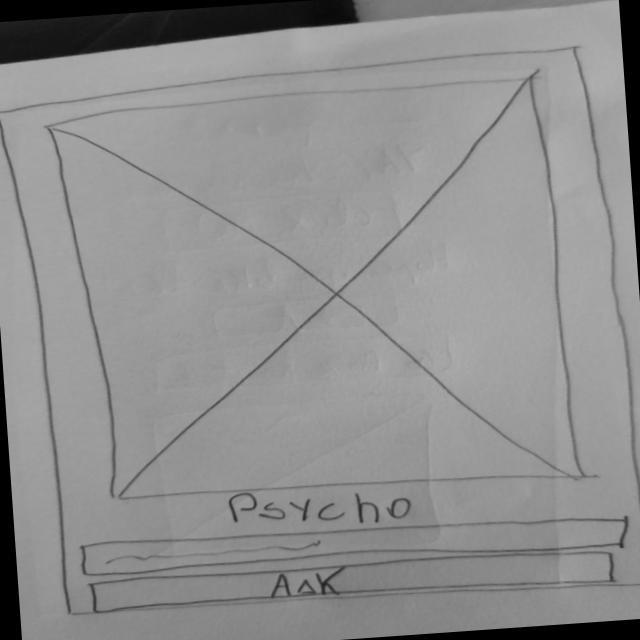button: (82, 545, 622, 616)
container: (2, 40, 640, 627)
image: (57, 75, 589, 506)
input: (77, 504, 634, 582)
label: (213, 480, 429, 536)
